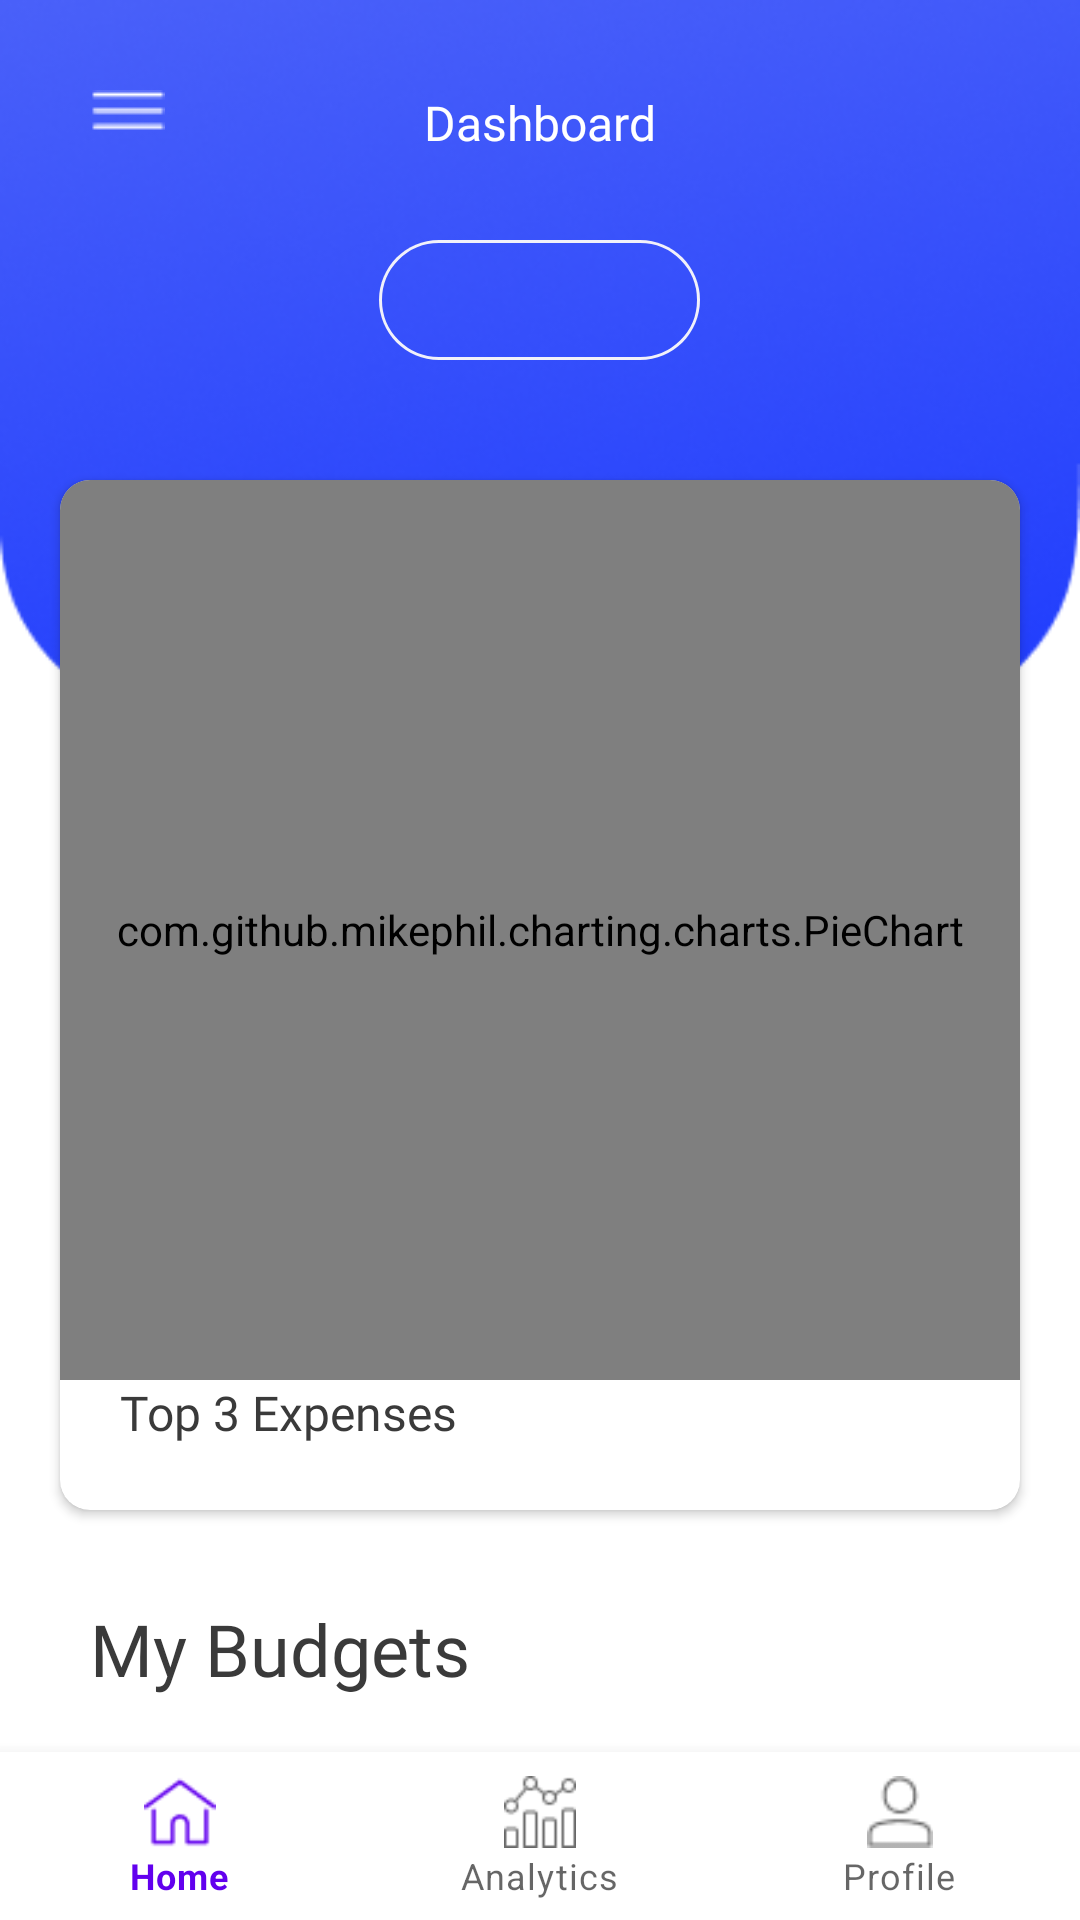

Icon click points for this 1080w x 1920h phone screenshot, format (x,y):
hamburgermenu: (128,110)
